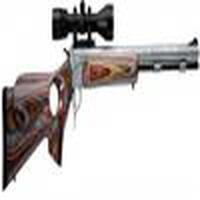gun: (2, 5, 197, 197)
